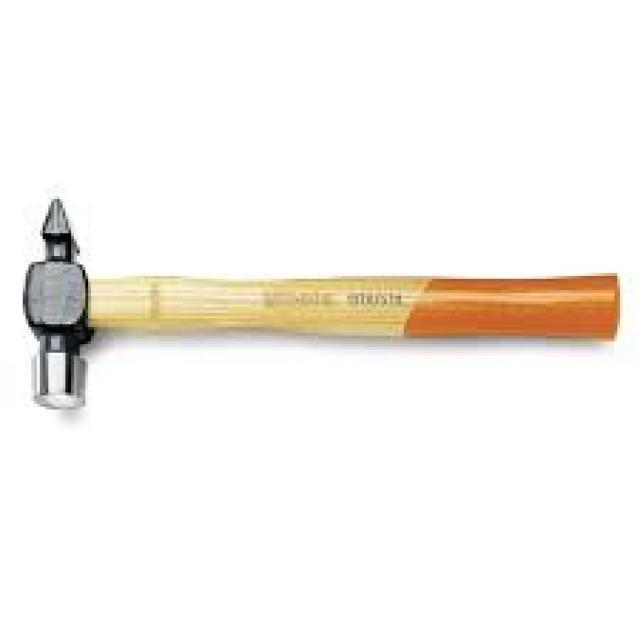hammer: (13, 188, 625, 422)
